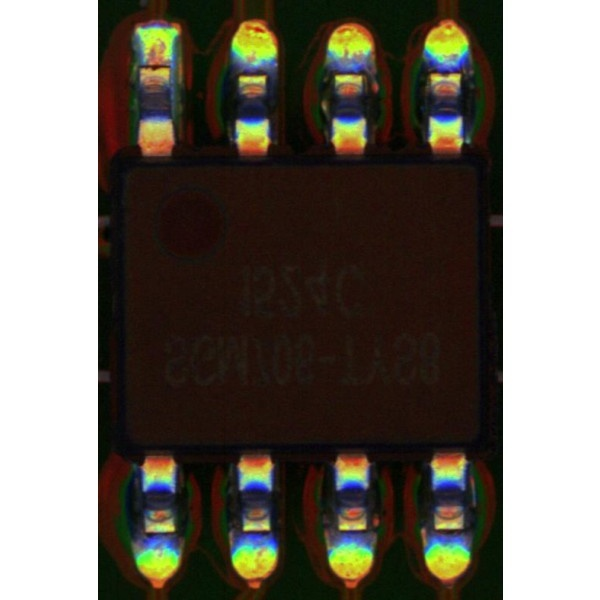Bad_podu: (143, 51, 169, 76)
